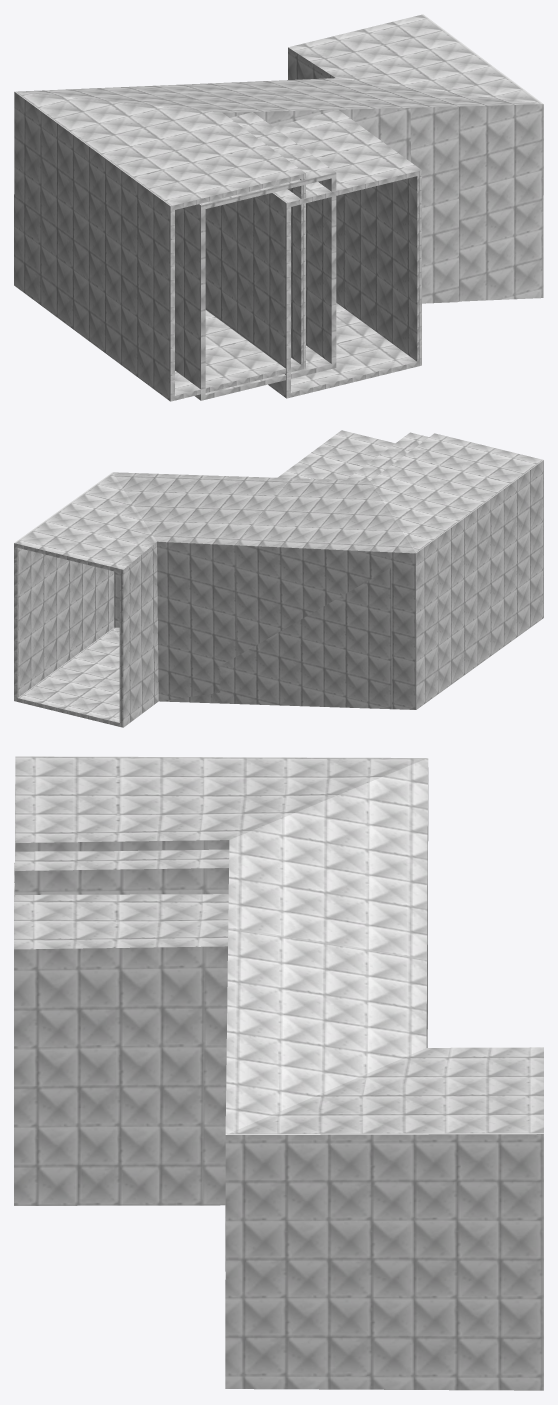
Rendered from Obby_Prison_Escape_Game_LevelPack_3.fbx.
3 views of the same model, one above another, from view 1: azimuth 30°, elevation 25°; view 2: azimuth 150°, elevation 25°; view 3: azimuth 270°, elevation 25° (orthographic). The views are drawn at different scales.
Visible parts, largest first — view 1: Obby_Prison_Escape_tunnel_013_000, Obby_Prison_Escape_tunnel_013_002, Obby_Prison_Escape_tunnel_013_001; view 2: Obby_Prison_Escape_tunnel_013_000, Obby_Prison_Escape_tunnel_013_001, Obby_Prison_Escape_tunnel_013_002; view 3: Obby_Prison_Escape_tunnel_013_000, Obby_Prison_Escape_tunnel_013_002, Obby_Prison_Escape_tunnel_013_001.
Boxes of the visible parts, box(x1,y1,x2,y2) form: Obby_Prison_Escape_tunnel_013_000: box(14, 14, 543, 401); Obby_Prison_Escape_tunnel_013_002: box(205, 107, 421, 398); Obby_Prison_Escape_tunnel_013_001: box(175, 106, 458, 400); Obby_Prison_Escape_tunnel_013_000: box(14, 433, 543, 727); Obby_Prison_Escape_tunnel_013_001: box(160, 432, 428, 709); Obby_Prison_Escape_tunnel_013_002: box(278, 430, 394, 479); Obby_Prison_Escape_tunnel_013_000: box(15, 756, 543, 1390); Obby_Prison_Escape_tunnel_013_002: box(14, 862, 228, 1271); Obby_Prison_Escape_tunnel_013_001: box(15, 784, 427, 1047).
Size of the model in its own units: 700 by 389 by 539.
1 material, 1 textured.
